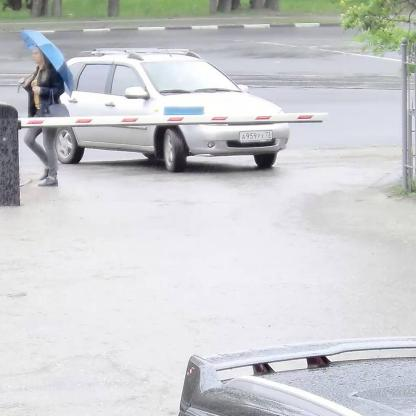plate: (240, 130, 272, 140)
